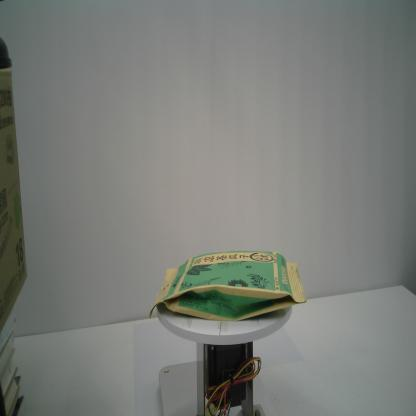Dried Food: (146, 247, 307, 324)
